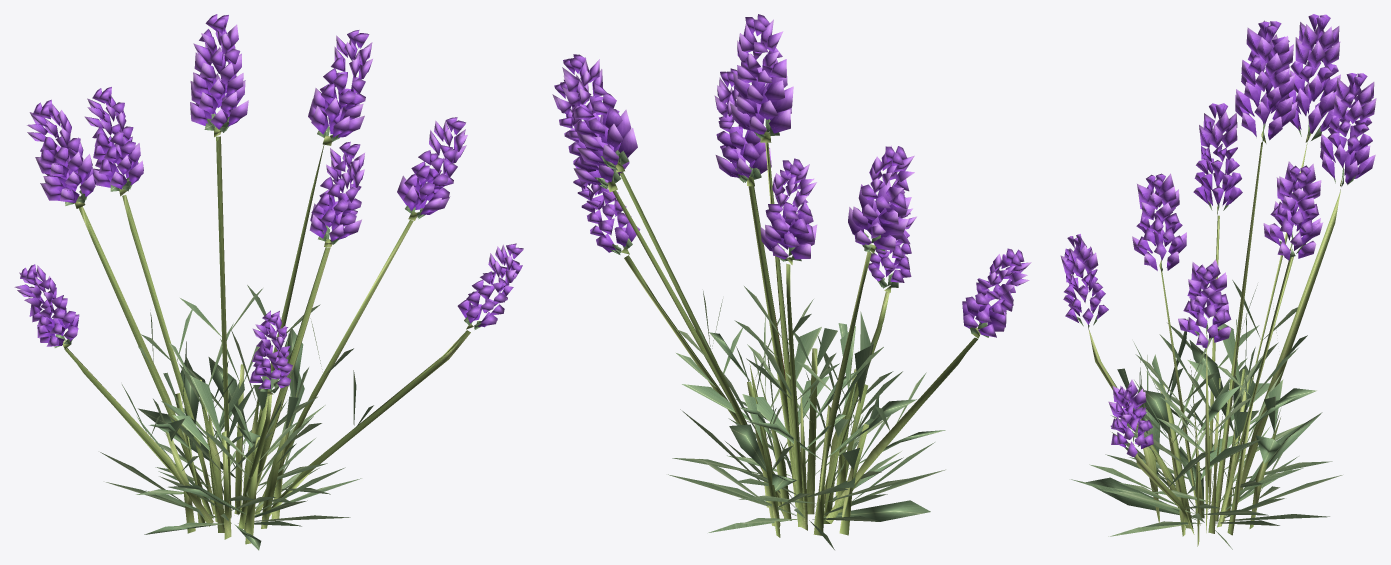
Rendered from NP_Lavender_Ready_LOD1.fbx.
The picture shows the model from 3 angles, left to right: view 1: azimuth 30°, elevation 25°; view 2: azimuth 150°, elevation 25°; view 3: azimuth 270°, elevation 25°; orthographic projection. The views are drawn at different scales.
Visible parts, largest first — view 1: NP_Lavender_Ready; view 2: NP_Lavender_Ready; view 3: NP_Lavender_Ready.
Boxes of the visible parts, x1,y1,x2,y2 form: NP_Lavender_Ready: (14,14,523,550); NP_Lavender_Ready: (552,14,1031,549); NP_Lavender_Ready: (1060,14,1376,549).
Bounding box in the file's own units: 102 × 101 × 56.51.
